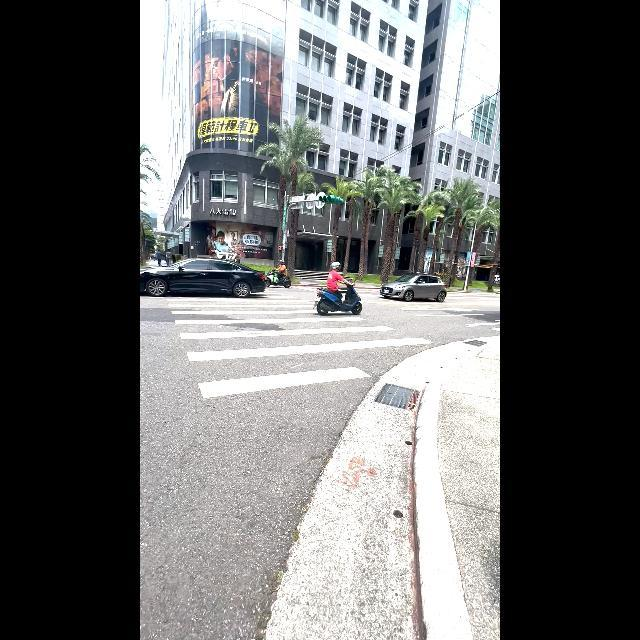sidewalk: (162, 283, 431, 400)
